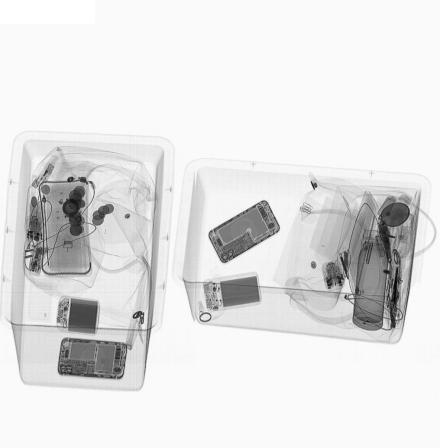Lighter: (364, 229, 402, 246)
